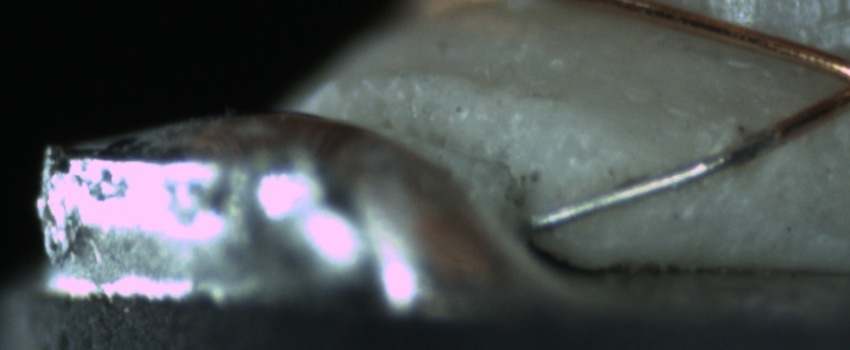TS: (528, 128, 778, 227)
